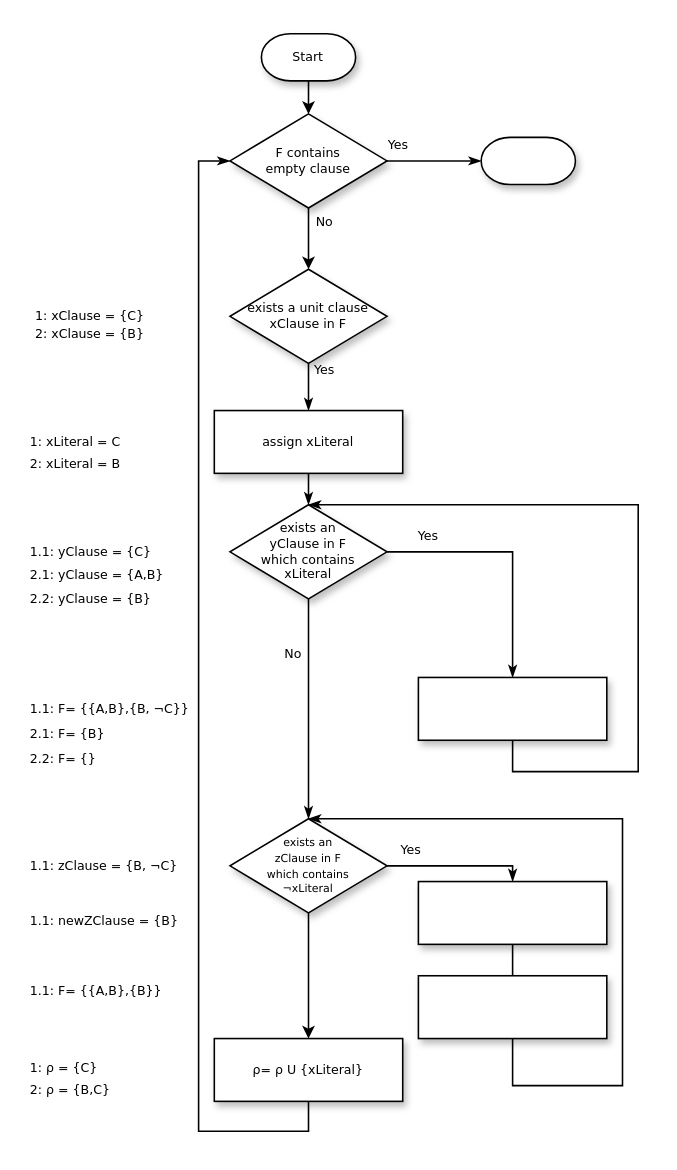
Image size: 677x1170. Some labels were removed from this diagram. The shapes that lost their labels are listed below. From the top down, each one's centre as x and y in pixels, then its label:
At (529,162): "End".
At (513,710): "F = F \ {yClause}".
At (513,914): "newZClause = zClause \ {¬xLiteral}".
At (513,1009): "F = F \ {zClause} U {newZClause}".
